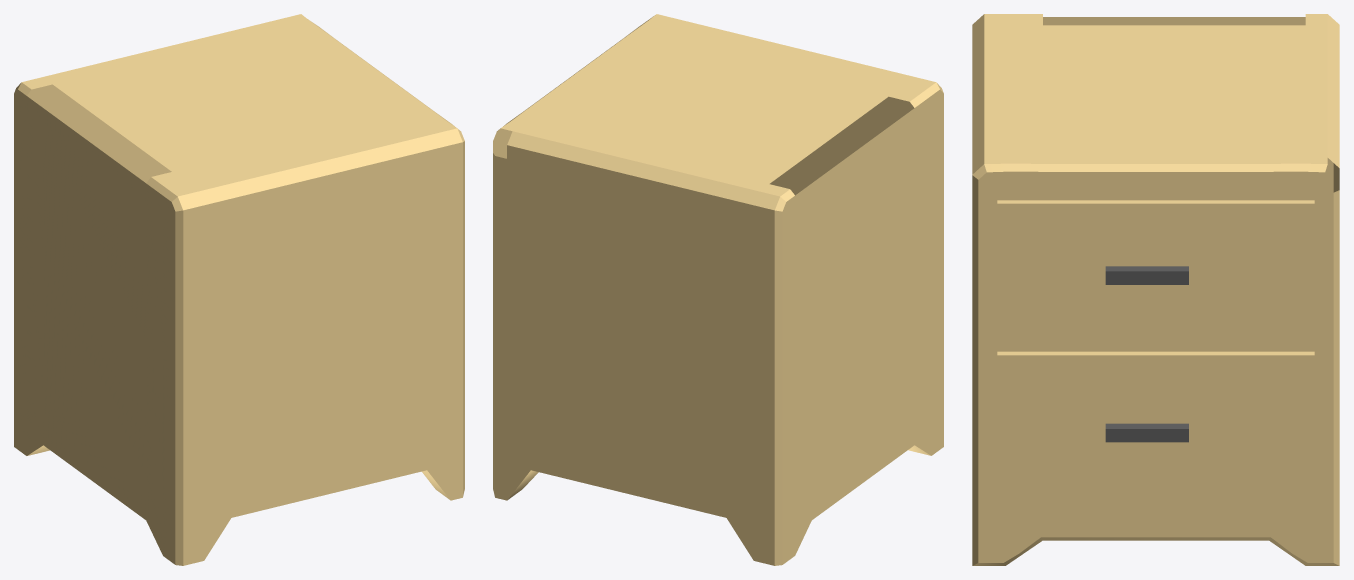
Rendered from Table.fbx.
The picture shows the model from 3 angles, left to right: view 1: azimuth 30°, elevation 25°; view 2: azimuth 150°, elevation 25°; view 3: azimuth 270°, elevation 25°; orthographic projection. The views are drawn at different scales.
Parts seen in each view (by area): view 1: Table; view 2: Table; view 3: Table.
Part boxes in pixels (box(x1,y1,x2,y2)): Table: box(14, 14, 464, 565); Table: box(493, 14, 943, 565); Table: box(972, 14, 1339, 565).
Bounding box in the file's own units: 46.33 × 52.95 × 43.89.
